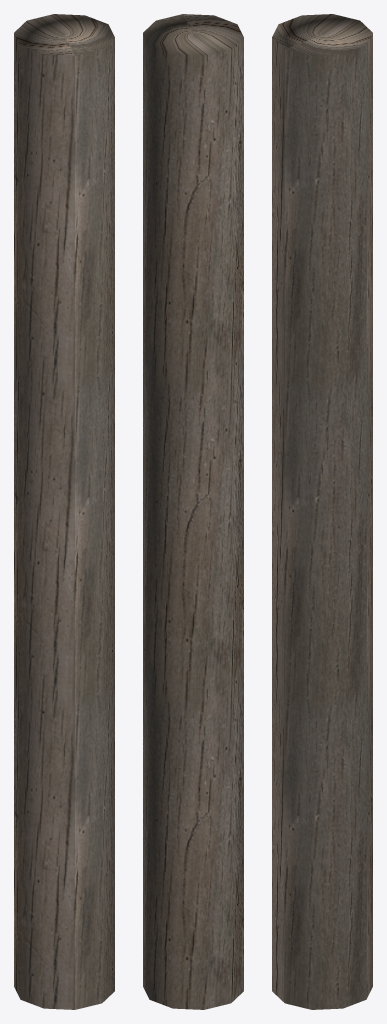
The picture shows the model from 3 angles, left to right: view 1: azimuth 30°, elevation 25°; view 2: azimuth 210°, elevation 25°; view 3: azimuth 330°, elevation 25°; orthographic projection.
Parts seen in each view (by area): view 1: Cylinder09; view 2: Cylinder09; view 3: Cylinder09.
Boxes of the visible parts, bbox=[...] form: Cylinder09: bbox=[14, 14, 114, 1009]; Cylinder09: bbox=[143, 14, 243, 1009]; Cylinder09: bbox=[272, 14, 372, 1009].
Size of the model in its own units: 10 by 104 by 9.51.
